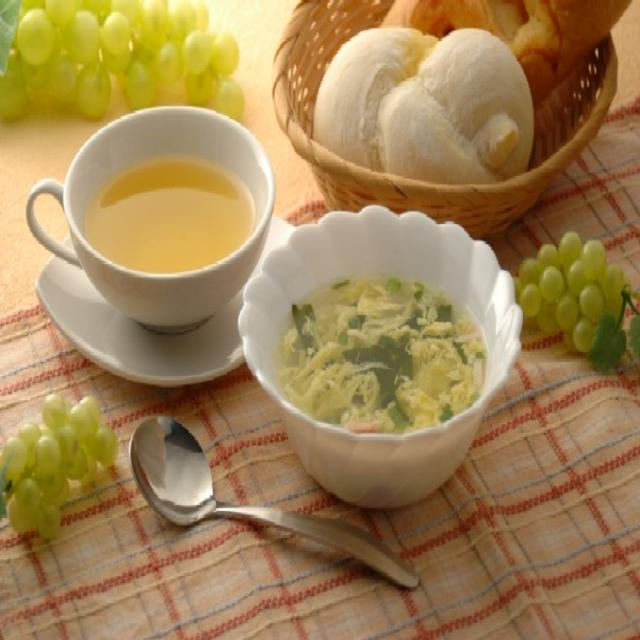汤锅炖物: (232, 196, 531, 514)
